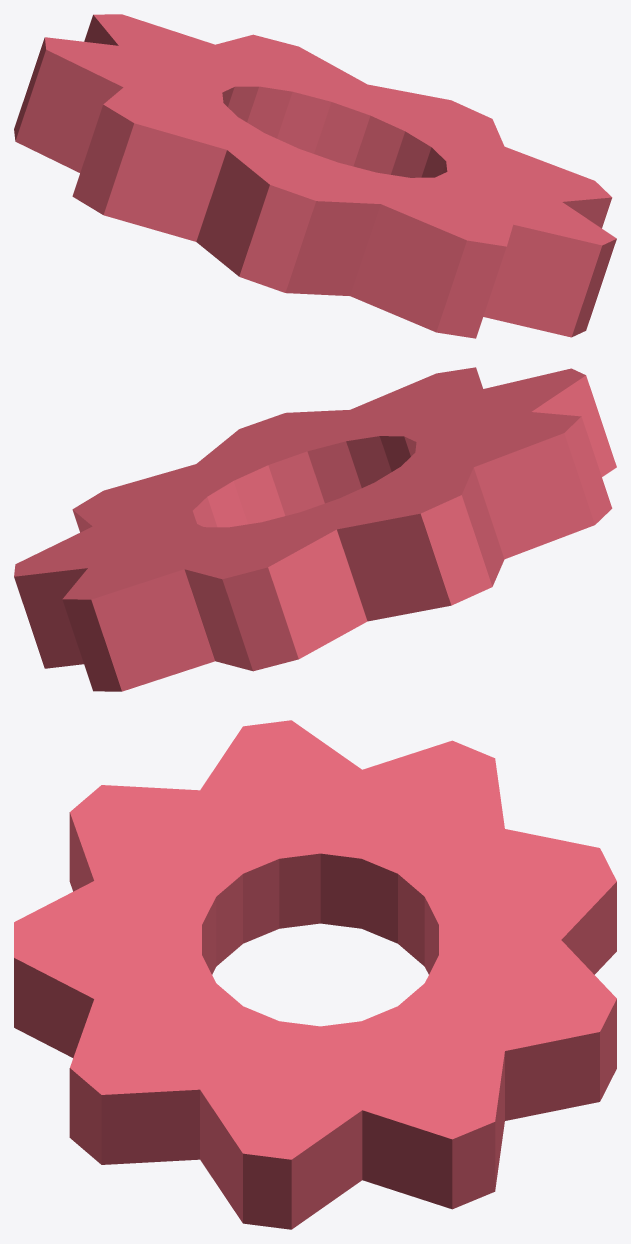
File: Geargeo7.fbx
The picture shows the model from 3 angles, top to bottom: view 1: azimuth 30°, elevation 25°; view 2: azimuth 150°, elevation 25°; view 3: azimuth 270°, elevation 25°; orthographic projection.
Visible parts, largest first — view 1: Gear7; view 2: Gear7; view 3: Gear7.
Part boxes in pixels (x1,y1,x2,y2): Gear7: (14,14,616,338); Gear7: (14,367,616,691); Gear7: (14,720,616,1229).
Bounding box in the file's own units: 69.51 × 35.7 × 68.95.
